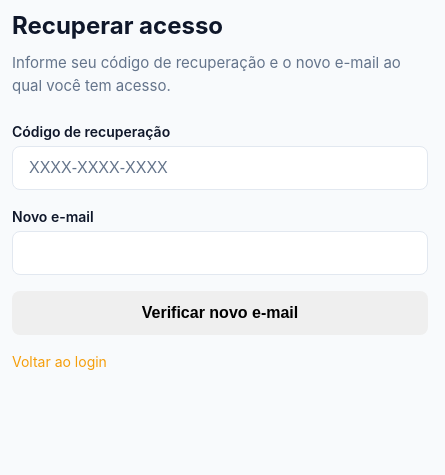
Scenario: RecuperarComponent › envia confirmação para o novo e-mail antes de recuperar
Type " recovery-fixture " into the field labelled "Código de recuperação" at (220,168), box [12,146,428,190]
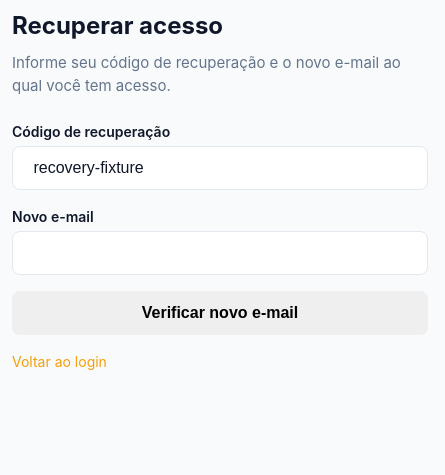
Type "novo@example.invalid" into the field labelled "Novo e-mail" at (220,253), box [12,231,428,275]
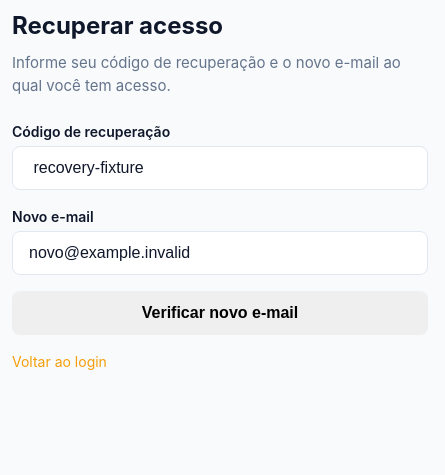
Submit the form, box [12,121,428,335]
Submit the form, box [12,121,428,335]
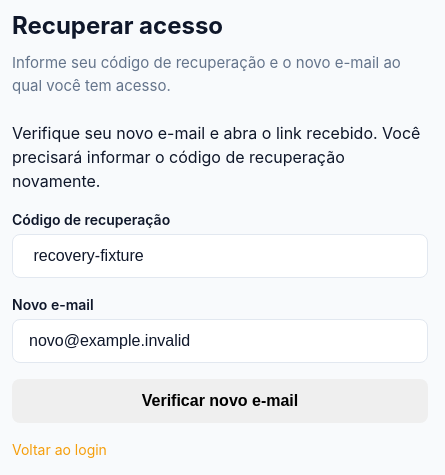
Expected: the text "Verifique seu novo e-mail" is shown, [12,123,420,191]
